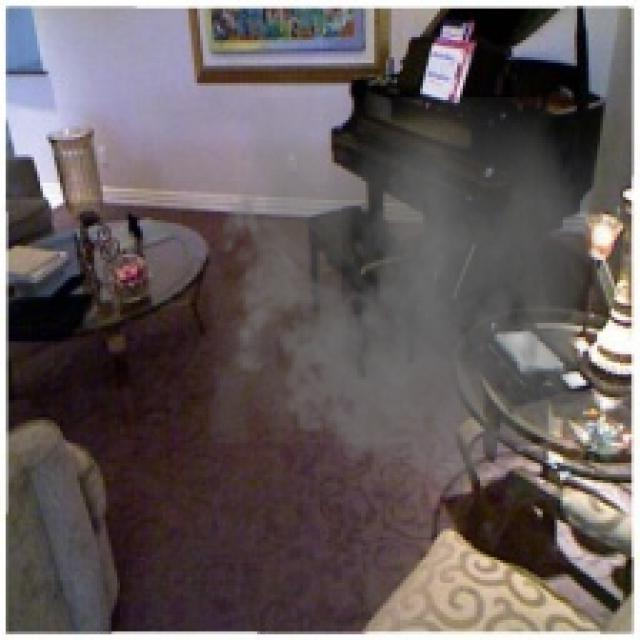Smoke: (208, 97, 606, 512)
